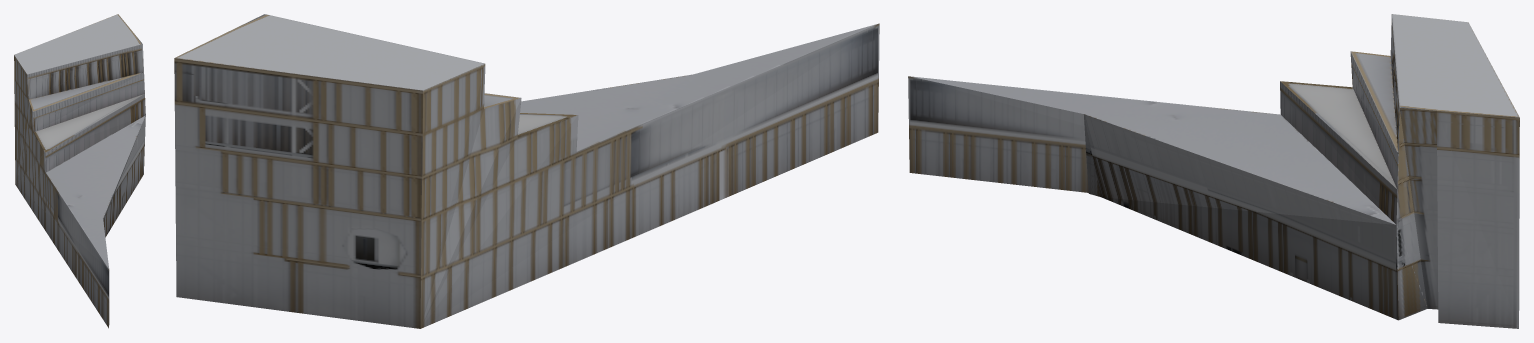
The model's file is part-b-retailglb.glb.
The picture shows the model from 3 angles, left to right: view 1: azimuth 30°, elevation 25°; view 2: azimuth 150°, elevation 25°; view 3: azimuth 270°, elevation 25°; orthographic projection. The views are drawn at different scales.
Parts seen in each view (by area): view 1: 5.003part2.001; view 2: 5.003part2.001; view 3: 5.003part2.001.
Part boxes in pixels (box(x1,y1,x2,y2)): 5.003part2.001: box(14, 14, 145, 328); 5.003part2.001: box(174, 14, 879, 328); 5.003part2.001: box(908, 14, 1519, 328).
Bounding box in the file's own units: 39.26 × 24.85 × 64.93.
1 material, 1 textured.
